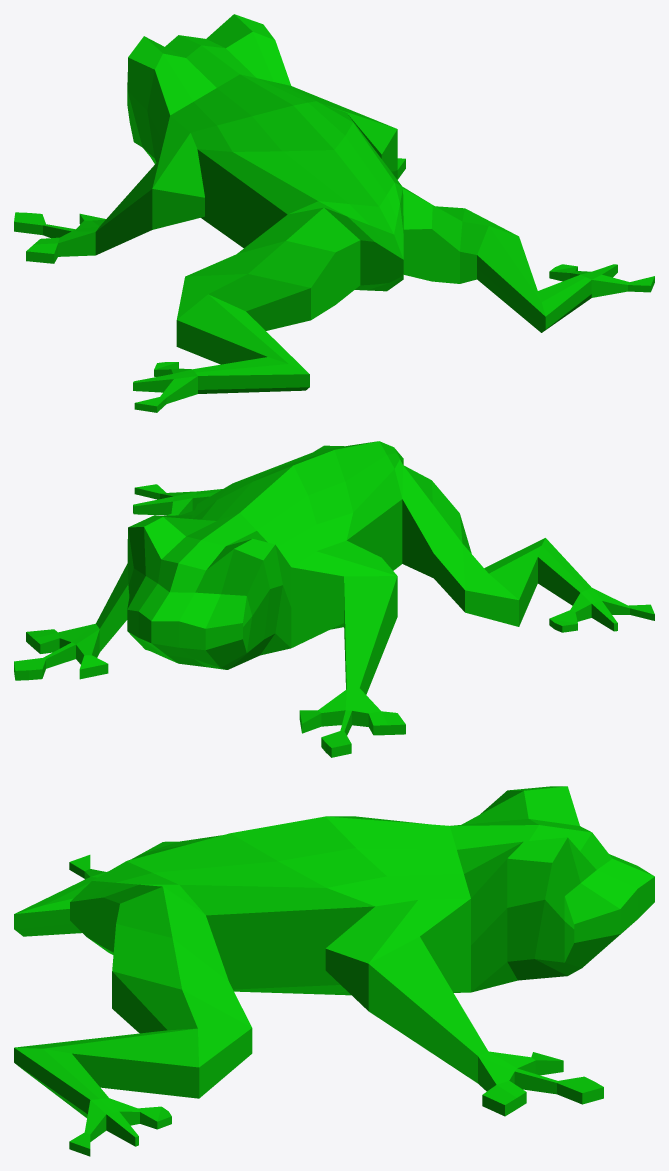
The model's file is frog.obj.
3 views of the same model, one above another, from view 1: azimuth 30°, elevation 25°; view 2: azimuth 150°, elevation 25°; view 3: azimuth 270°, elevation 25° (orthographic). The views are drawn at different scales.
Parts seen in each view (by area): view 1: Frog_Cube.001; view 2: Frog_Cube.001; view 3: Frog_Cube.001.
Part boxes in pixels (bbox=[...]): Frog_Cube.001: bbox=[14, 14, 654, 412]; Frog_Cube.001: bbox=[14, 441, 654, 757]; Frog_Cube.001: bbox=[14, 786, 654, 1156].
Size of the model in its own units: 4.8 by 1.5 by 4.41.
